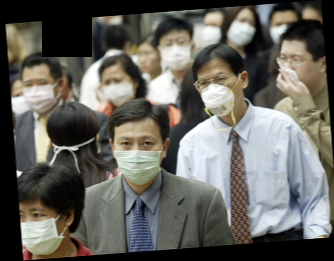with_mask: (112, 131, 165, 186), (21, 204, 66, 255), (197, 71, 243, 115), (22, 74, 60, 113), (158, 34, 192, 73), (100, 74, 137, 108), (226, 13, 257, 48), (267, 17, 298, 45), (200, 18, 223, 46), (11, 89, 28, 116)
without_mask: (277, 48, 320, 90), (137, 47, 160, 73)
